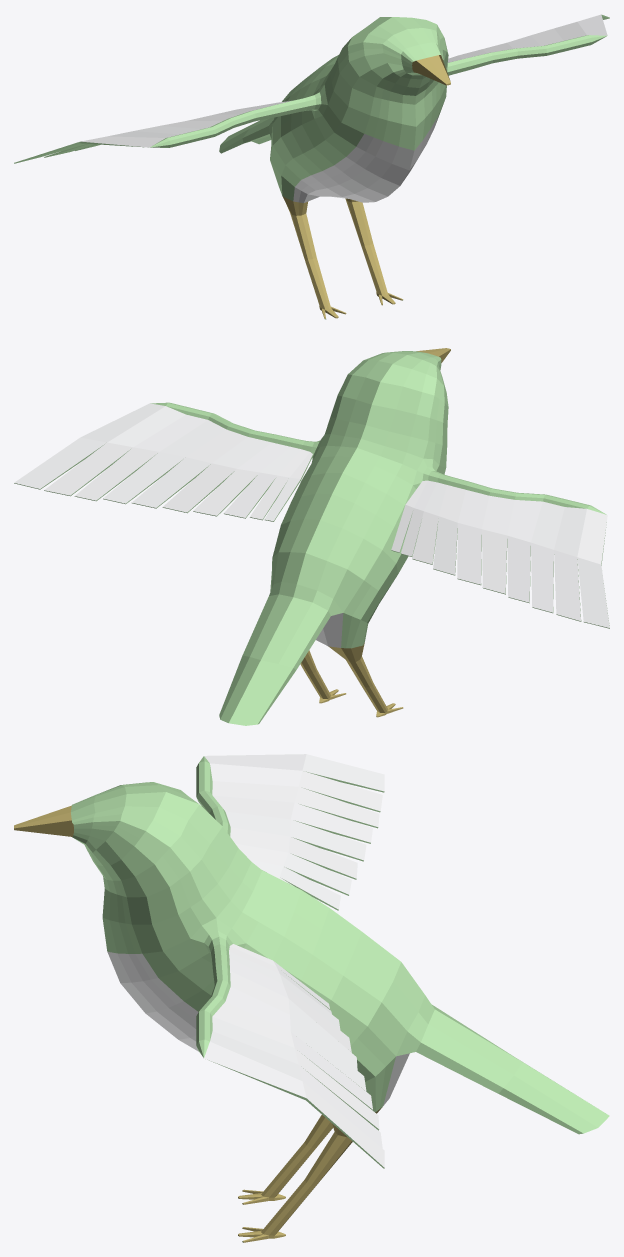
File: Passaro.fbx
3 renders of one model, top to bottom at view 1: azimuth 30°, elevation 25°; view 2: azimuth 150°, elevation 25°; view 3: azimuth 270°, elevation 25°, orthographic. The views are drawn at different scales.
Visible parts, largest first — view 1: Cilindro; view 2: Cilindro; view 3: Cilindro.
Part boxes in pixels (left/top/right/bottom): Cilindro: left=14, top=14, right=609, bottom=319; Cilindro: left=14, top=348, right=609, bottom=725; Cilindro: left=14, top=754, right=609, bottom=1242.
Bounding box in the file's own units: 27.95 × 14.08 × 17.89.
